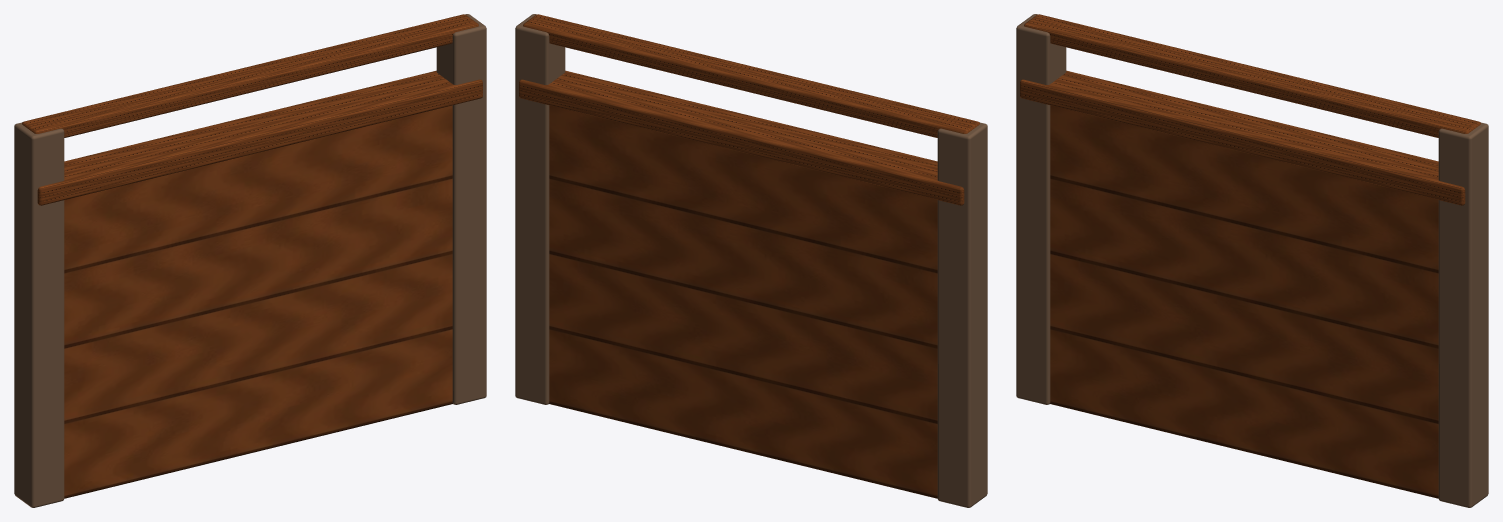
The model's file is adventurers-tavern-and-guild-hall-snug-partition-15512878__24686.glb.
The picture shows the model from 3 angles, left to right: view 1: azimuth 30°, elevation 25°; view 2: azimuth 150°, elevation 25°; view 3: azimuth 330°, elevation 25°; orthographic projection.
Parts seen in each view (by area): view 1: snug-partition; view 2: snug-partition; view 3: snug-partition.
Boxes of the visible parts, x1,y1,x2,y2 form: snug-partition: (14,14,486,507); snug-partition: (515,14,987,507); snug-partition: (1016,14,1488,507).
Bounding box in the file's own units: 2.05 × 1.61 × 0.1799.
2 materials, 1 textured.
